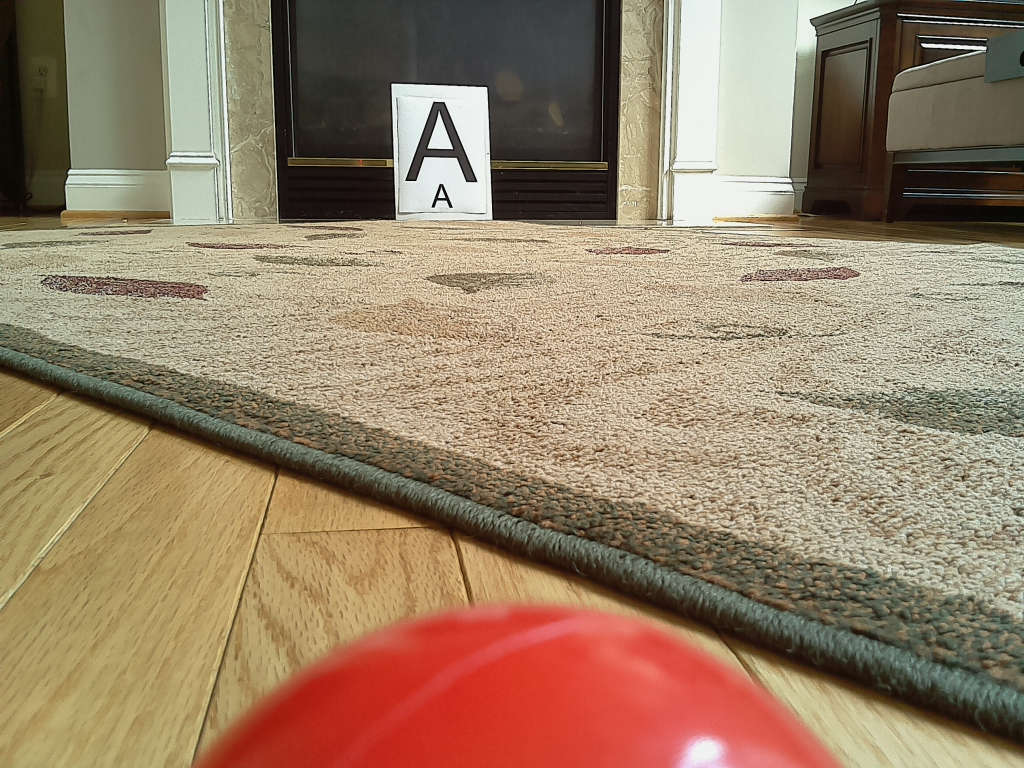letter: (404, 102, 481, 183)
